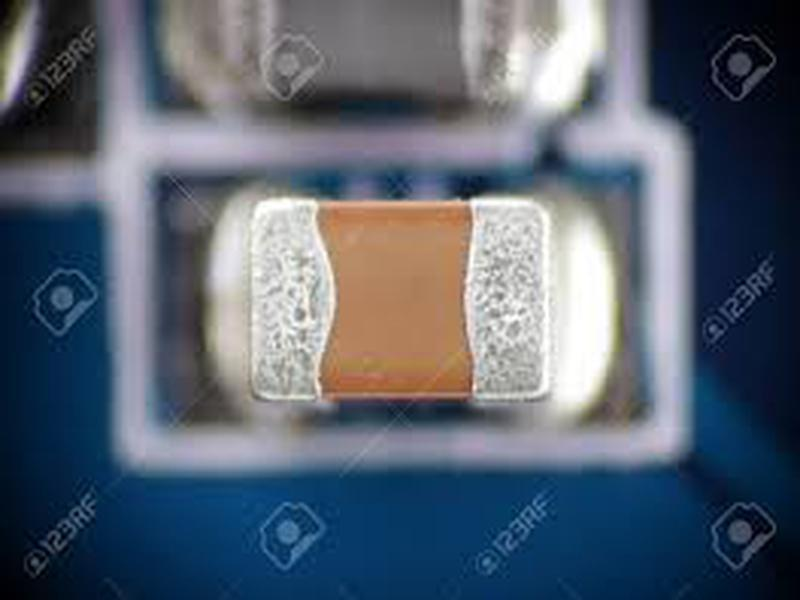SMD capacitor: (235, 190, 560, 406)
